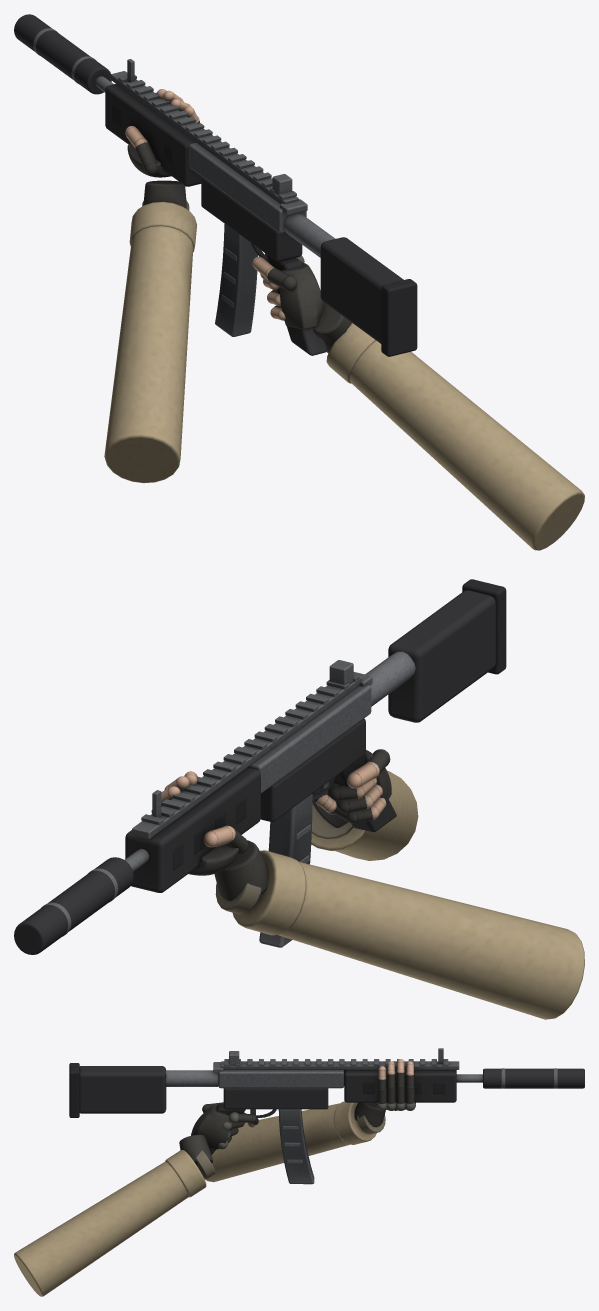
File: taktisk.glb
3 renders of one model, top to bottom at view 1: azimuth 30°, elevation 25°; view 2: azimuth 150°, elevation 25°; view 3: azimuth 270°, elevation 25°, orthographic. The views are drawn at different scales.
Parts seen in each view (by area): view 1: hænder, taktisk; view 2: taktisk, hænder; view 3: hænder, taktisk.
Part boxes in pixels (x1,y1,x2,y2): hænder: (104, 89, 584, 550); taktisk: (14, 14, 417, 356); taktisk: (14, 579, 506, 954); hænder: (152, 749, 584, 1019); hænder: (14, 1059, 415, 1296); taktisk: (69, 1048, 584, 1184).
Bounding box in the file's own units: 0.5162 × 0.4335 × 1.09.
2 materials, 2 textured.
